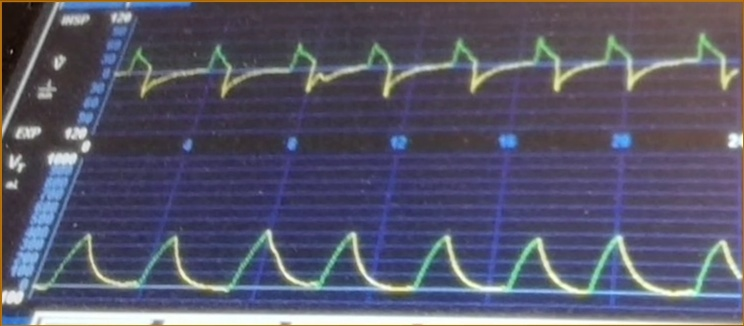Premature_cycling Flow: (124, 22, 738, 125)
Premature_cycling Volume: (43, 228, 739, 311)
